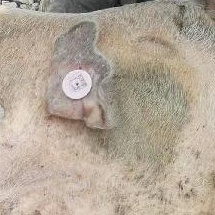text: (54, 59, 101, 106)
